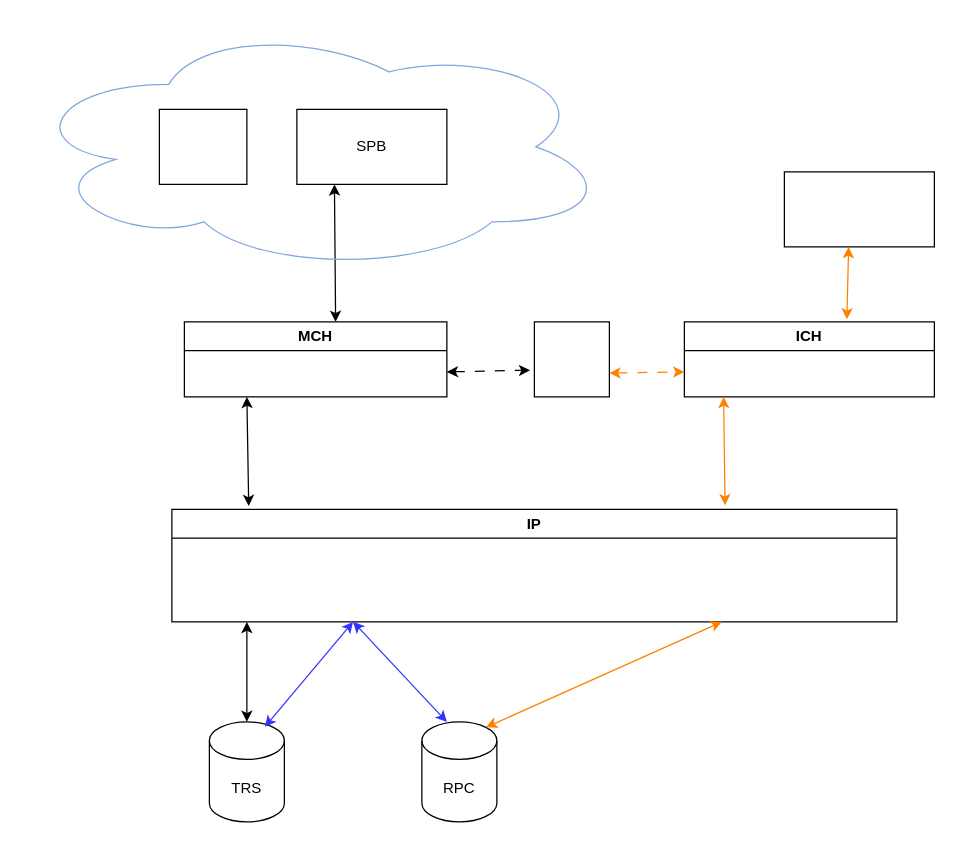
Some shapes in this 956 by 844 pixel diagram are drawn without their labels. The box of each missing label's shape, as (x1, y1, x2, y2) in pixels:
GAS: (533, 321, 609, 397)
GIB: (158, 108, 247, 184)
UniFE: (783, 171, 934, 247)
